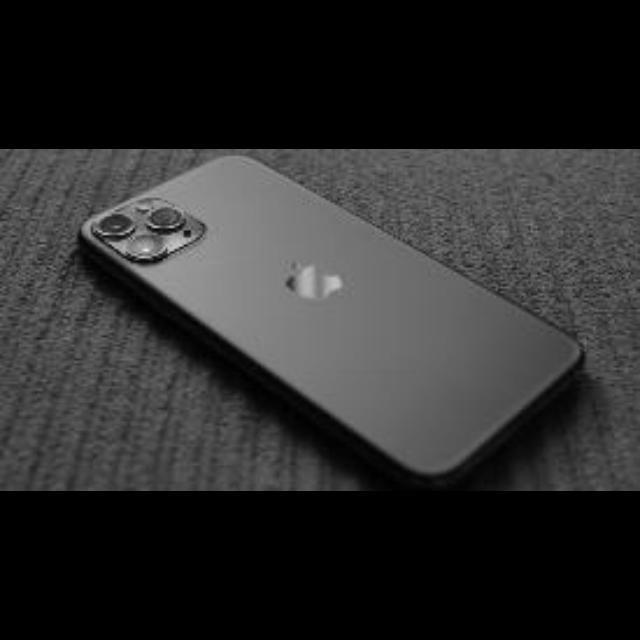fake: (74, 158, 618, 491)
